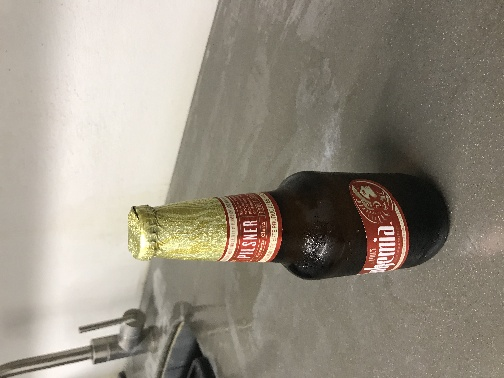BPB: (90, 123, 332, 204)
